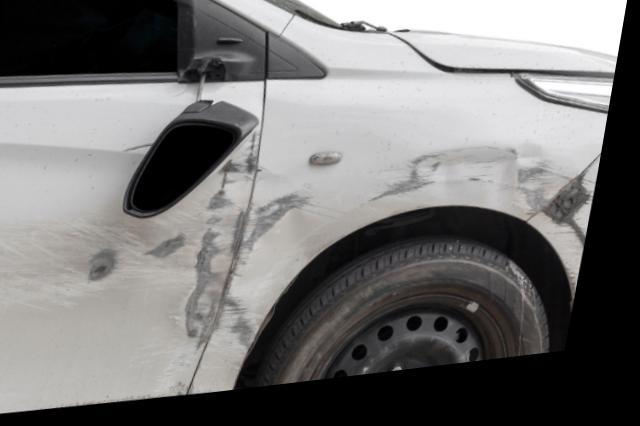dent: (407, 160, 552, 217)
scratch: (0, 141, 264, 402), (216, 178, 321, 376), (550, 184, 604, 312)
